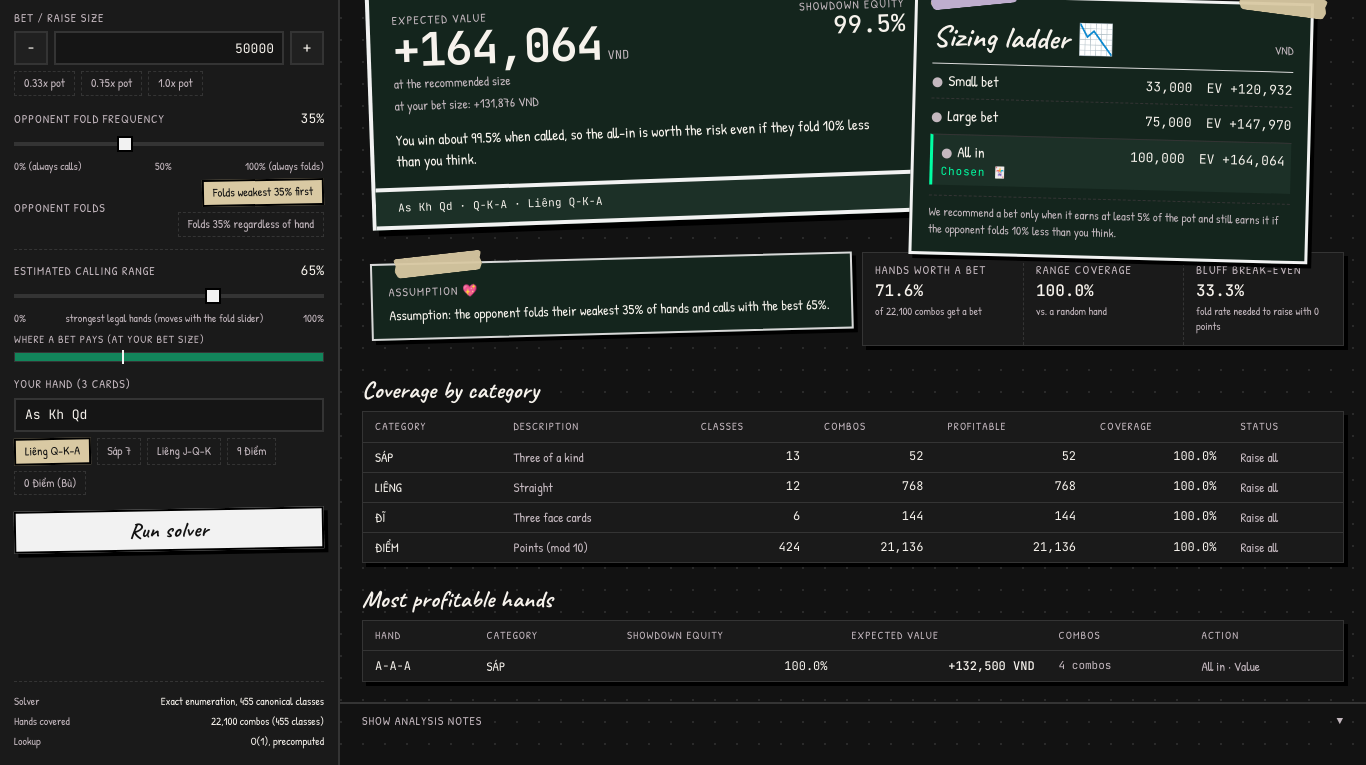
App › a click while the analysis is still loading cancels the old run
The width and height of the screenshot is (1366, 765).
(page scrolled)
Click the button "Show analysis notes ▼".
click(422, 721)  # box 362,704 -> 1344,738
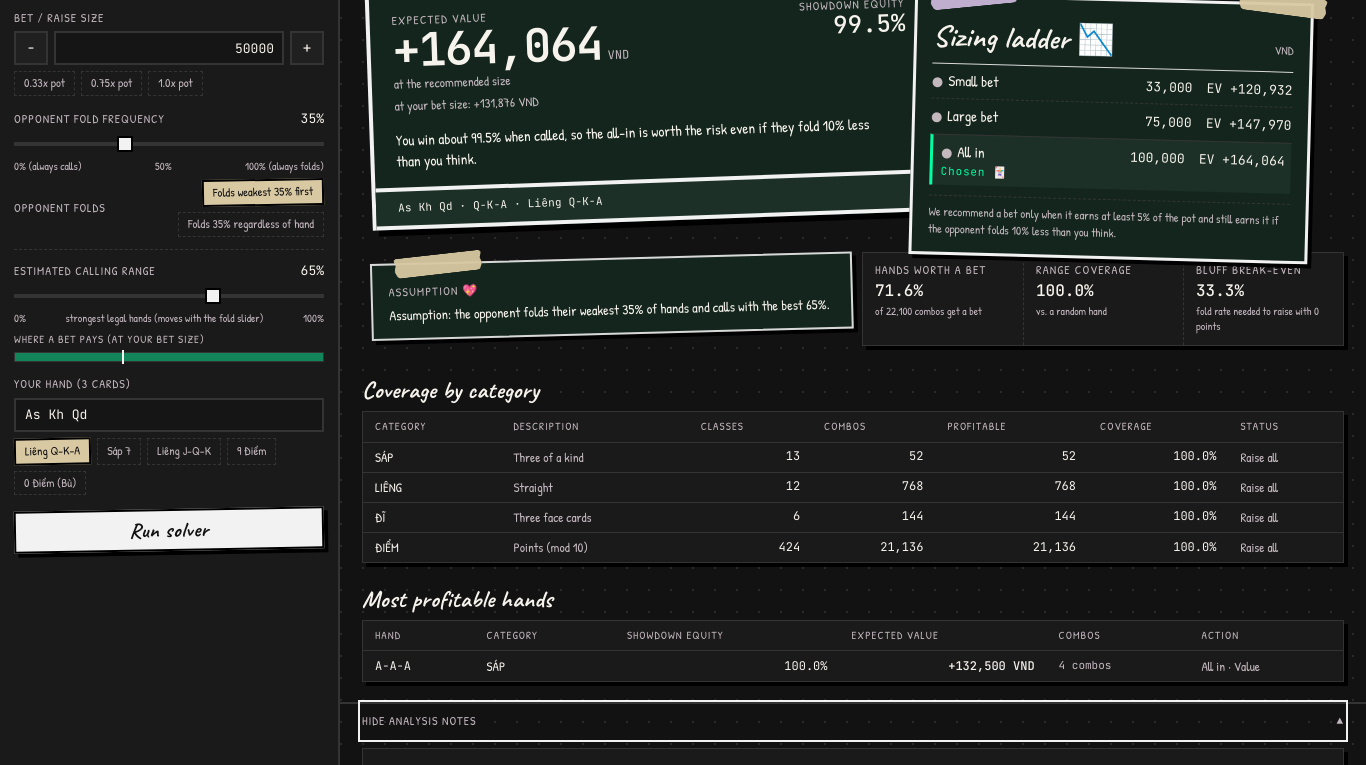
Click the button "Run solver".
click(169, 530)  # box 14,507 -> 324,554
(page scrolled)
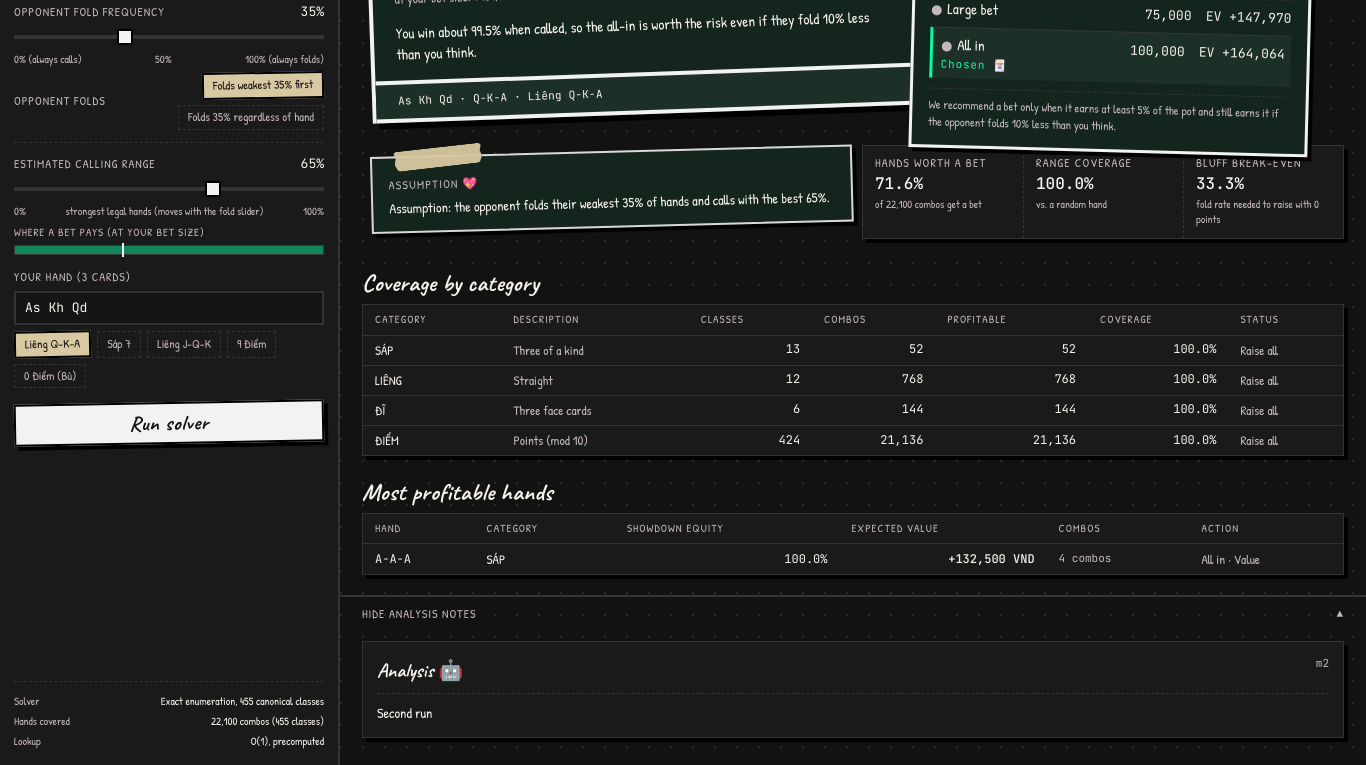
Expected: the text "Second run" is shown, 377,703 -> 432,722
